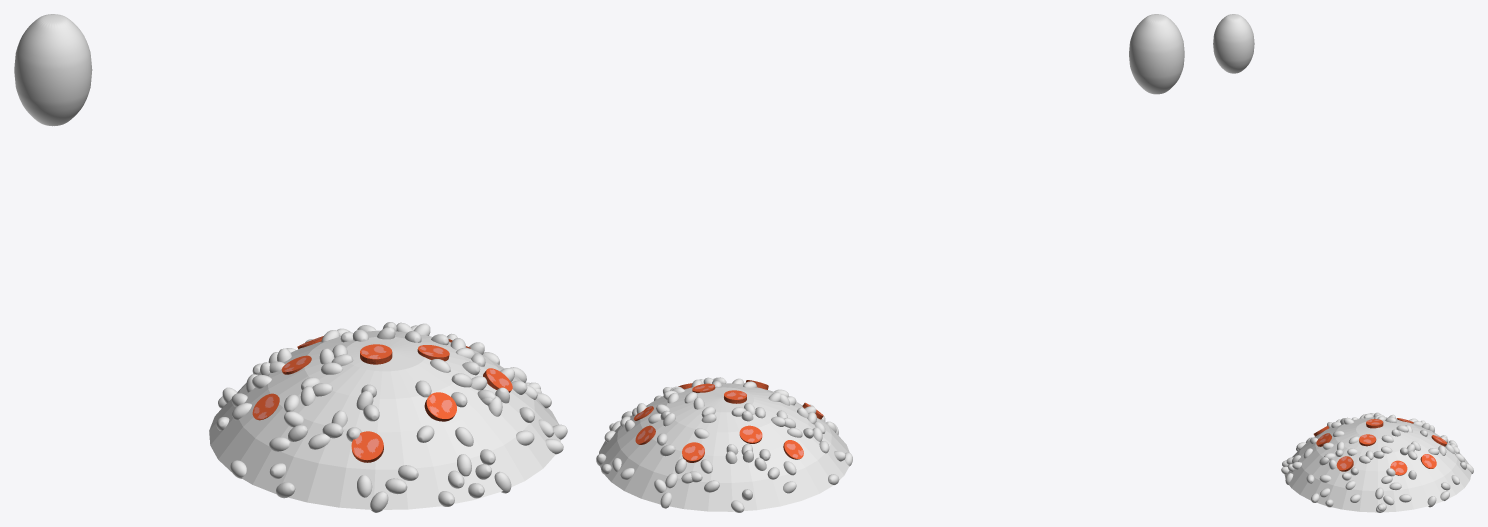
Rendered from feijoada.fbx.
3 views of the same model, side by side, from view 1: azimuth 30°, elevation 25°; view 2: azimuth 150°, elevation 25°; view 3: azimuth 270°, elevation 25° (orthographic). The views are drawn at different scales.
Parts seen in each view (by area): view 1: Sphere.001, Cylinder, Cylinder.002, Cylinder.001; view 2: Sphere.001, Cylinder; view 3: Sphere.001, Cylinder.
Part boxes in pixels (bbox=[...]): Sphere.001: bbox=[209, 330, 560, 509]; Cylinder: bbox=[14, 14, 92, 126]; Cylinder.002: bbox=[351, 431, 383, 462]; Cylinder.001: bbox=[424, 392, 456, 421]; Sphere.001: bbox=[599, 383, 849, 511]; Cylinder: bbox=[1129, 14, 1184, 94]; Sphere.001: bbox=[1284, 417, 1471, 512]; Cylinder: bbox=[1213, 14, 1254, 73].
Size of the model in its own units: 141 by 130 by 91.17.
